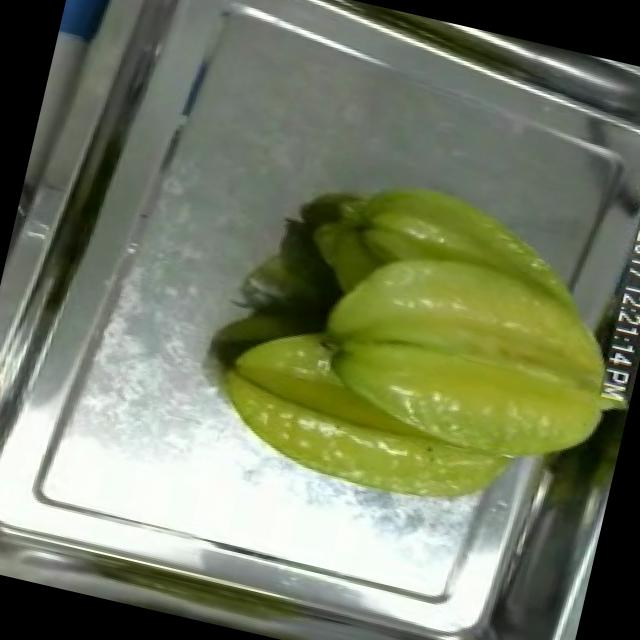fruit: (252, 146, 640, 569)
